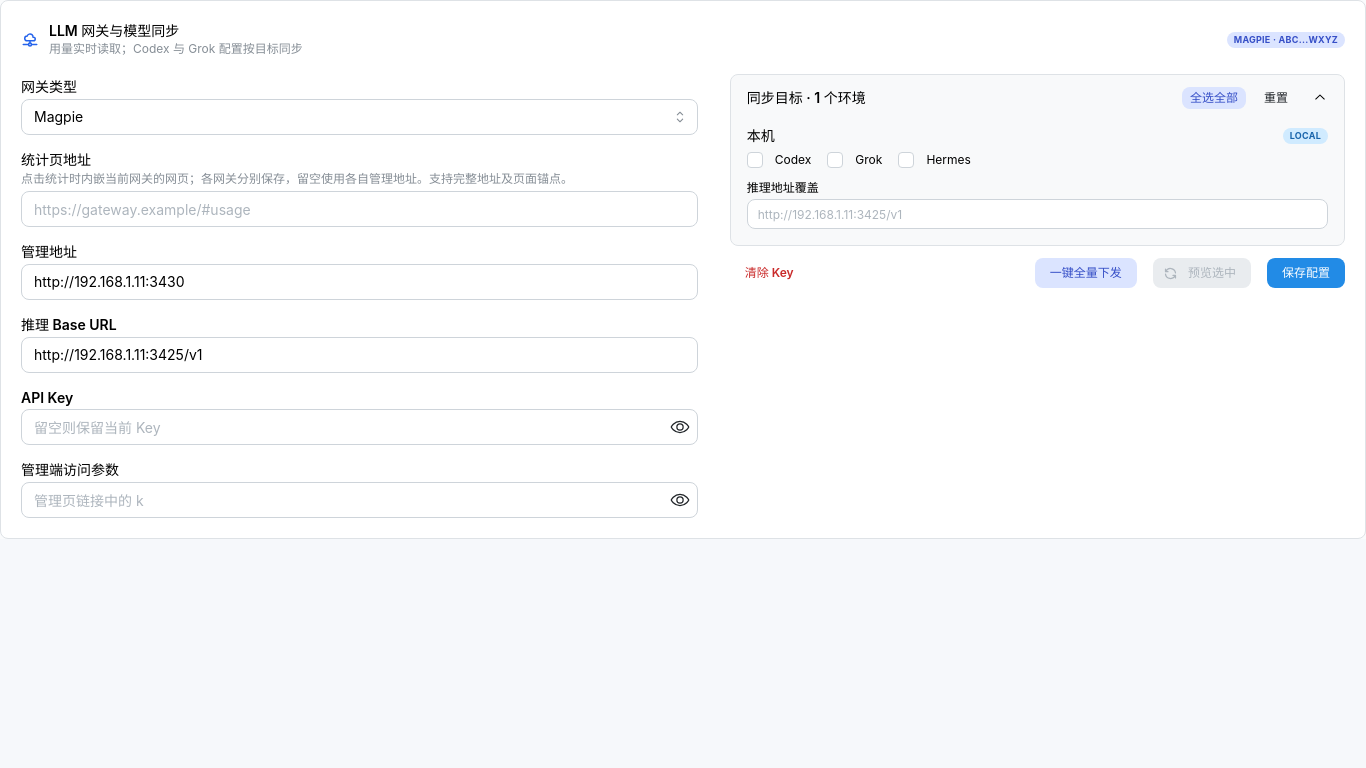
Test: renders a preview whose model_diff arrays are null without crashing (Go null-slice regression)
Step 1. Click the checkbox labelled "Codex" → click(755, 160), box [747,152,763,168]
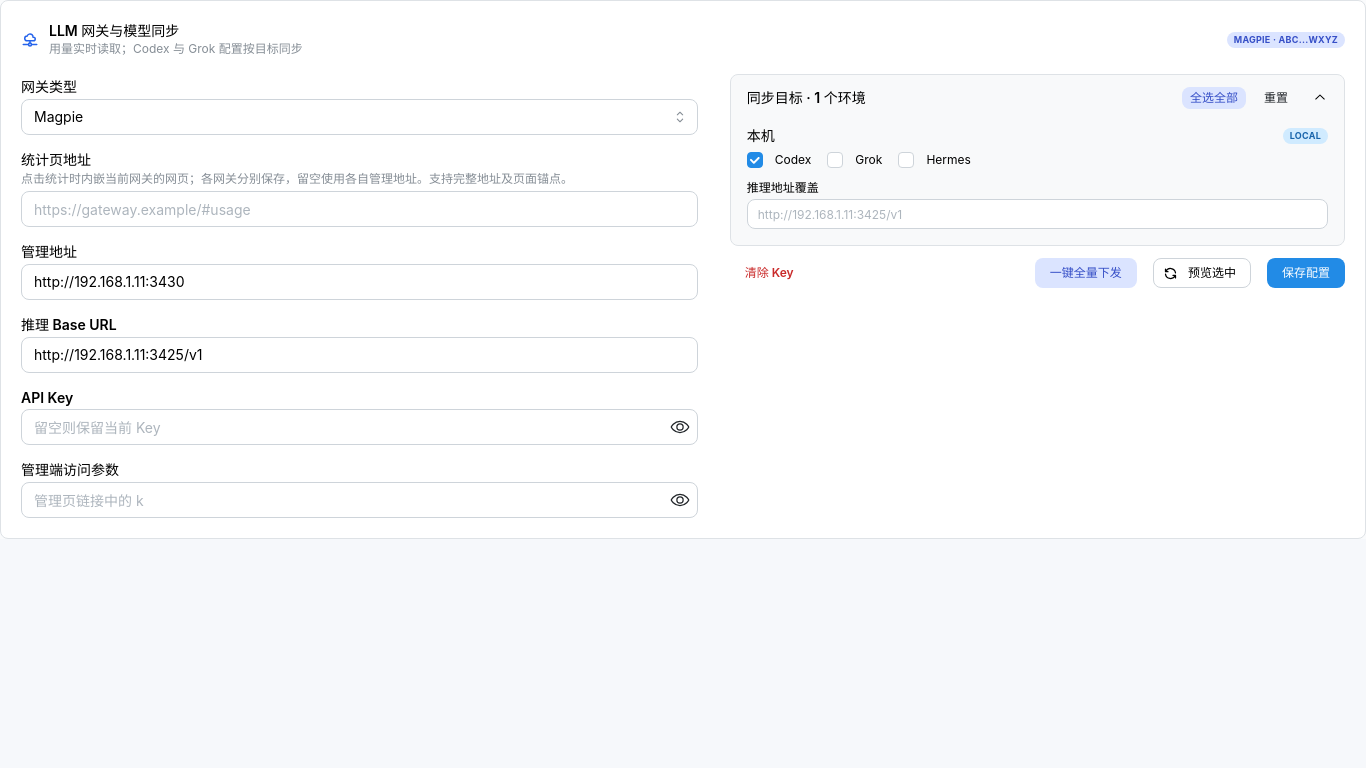
Step 2. Click the button "预览选中" → click(1202, 273), box [1153,258,1251,288]
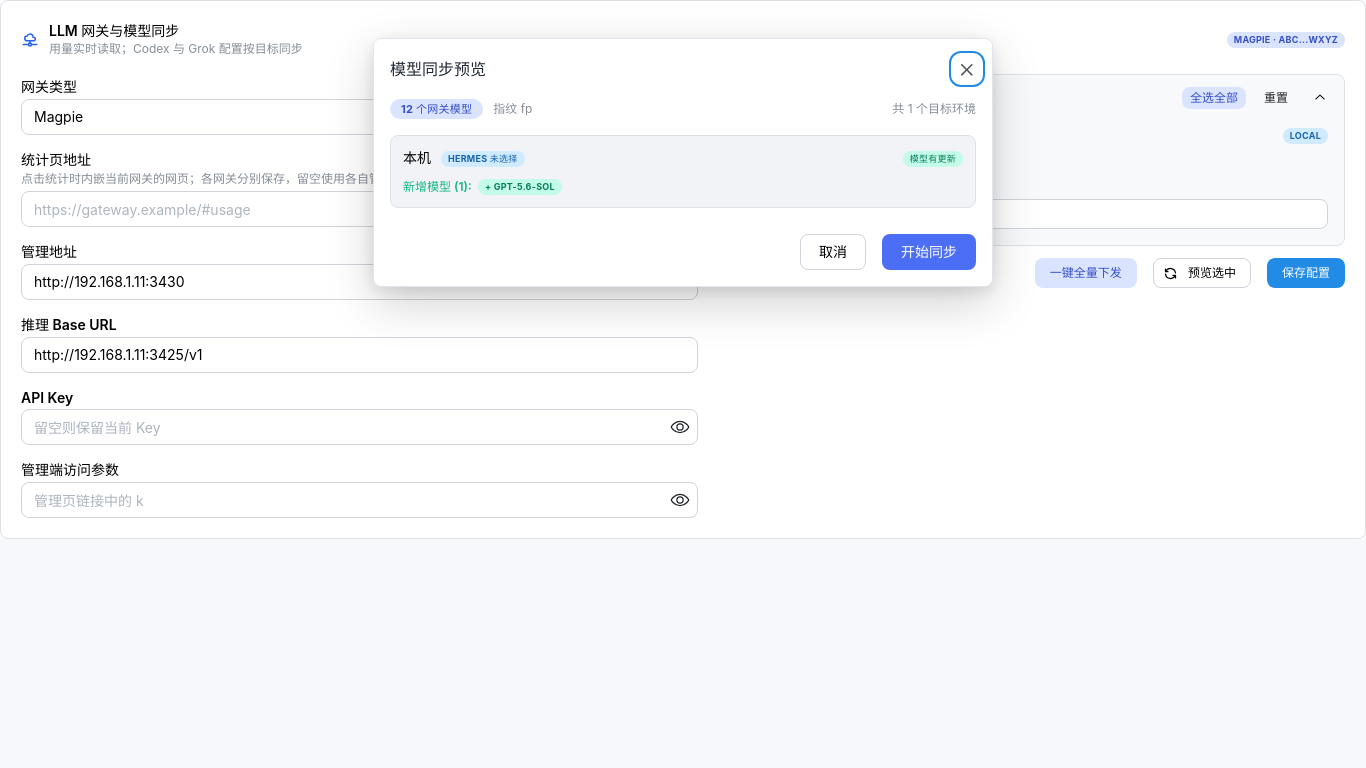
Now the text "模型有更新" is shown, box [910,152,956,166]
Now the text "新增模型 (1):" is shown, box [403,179,472,196]
